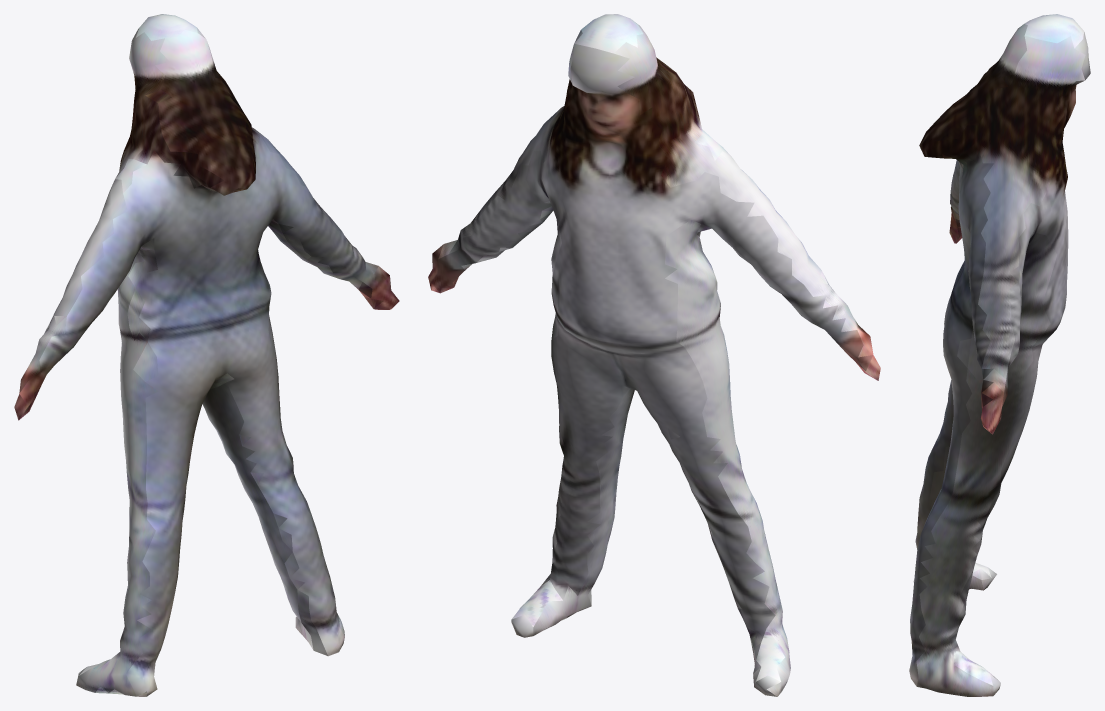
3 views of the same model, side by side, from view 1: azimuth 30°, elevation 25°; view 2: azimuth 150°, elevation 25°; view 3: azimuth 270°, elevation 25° (orthographic). The views are drawn at different scales.
Visible parts, largest first — view 1: world; view 2: world; view 3: world.
Boxes of the visible parts, x1,y1,x2,y2 form: world: (14,14,399,696); world: (428,14,880,696); world: (909,14,1090,696).
Size of the model in its own units: 0.6822 by 1 by 0.2648.
Materials: 1 (1 with a texture image).
